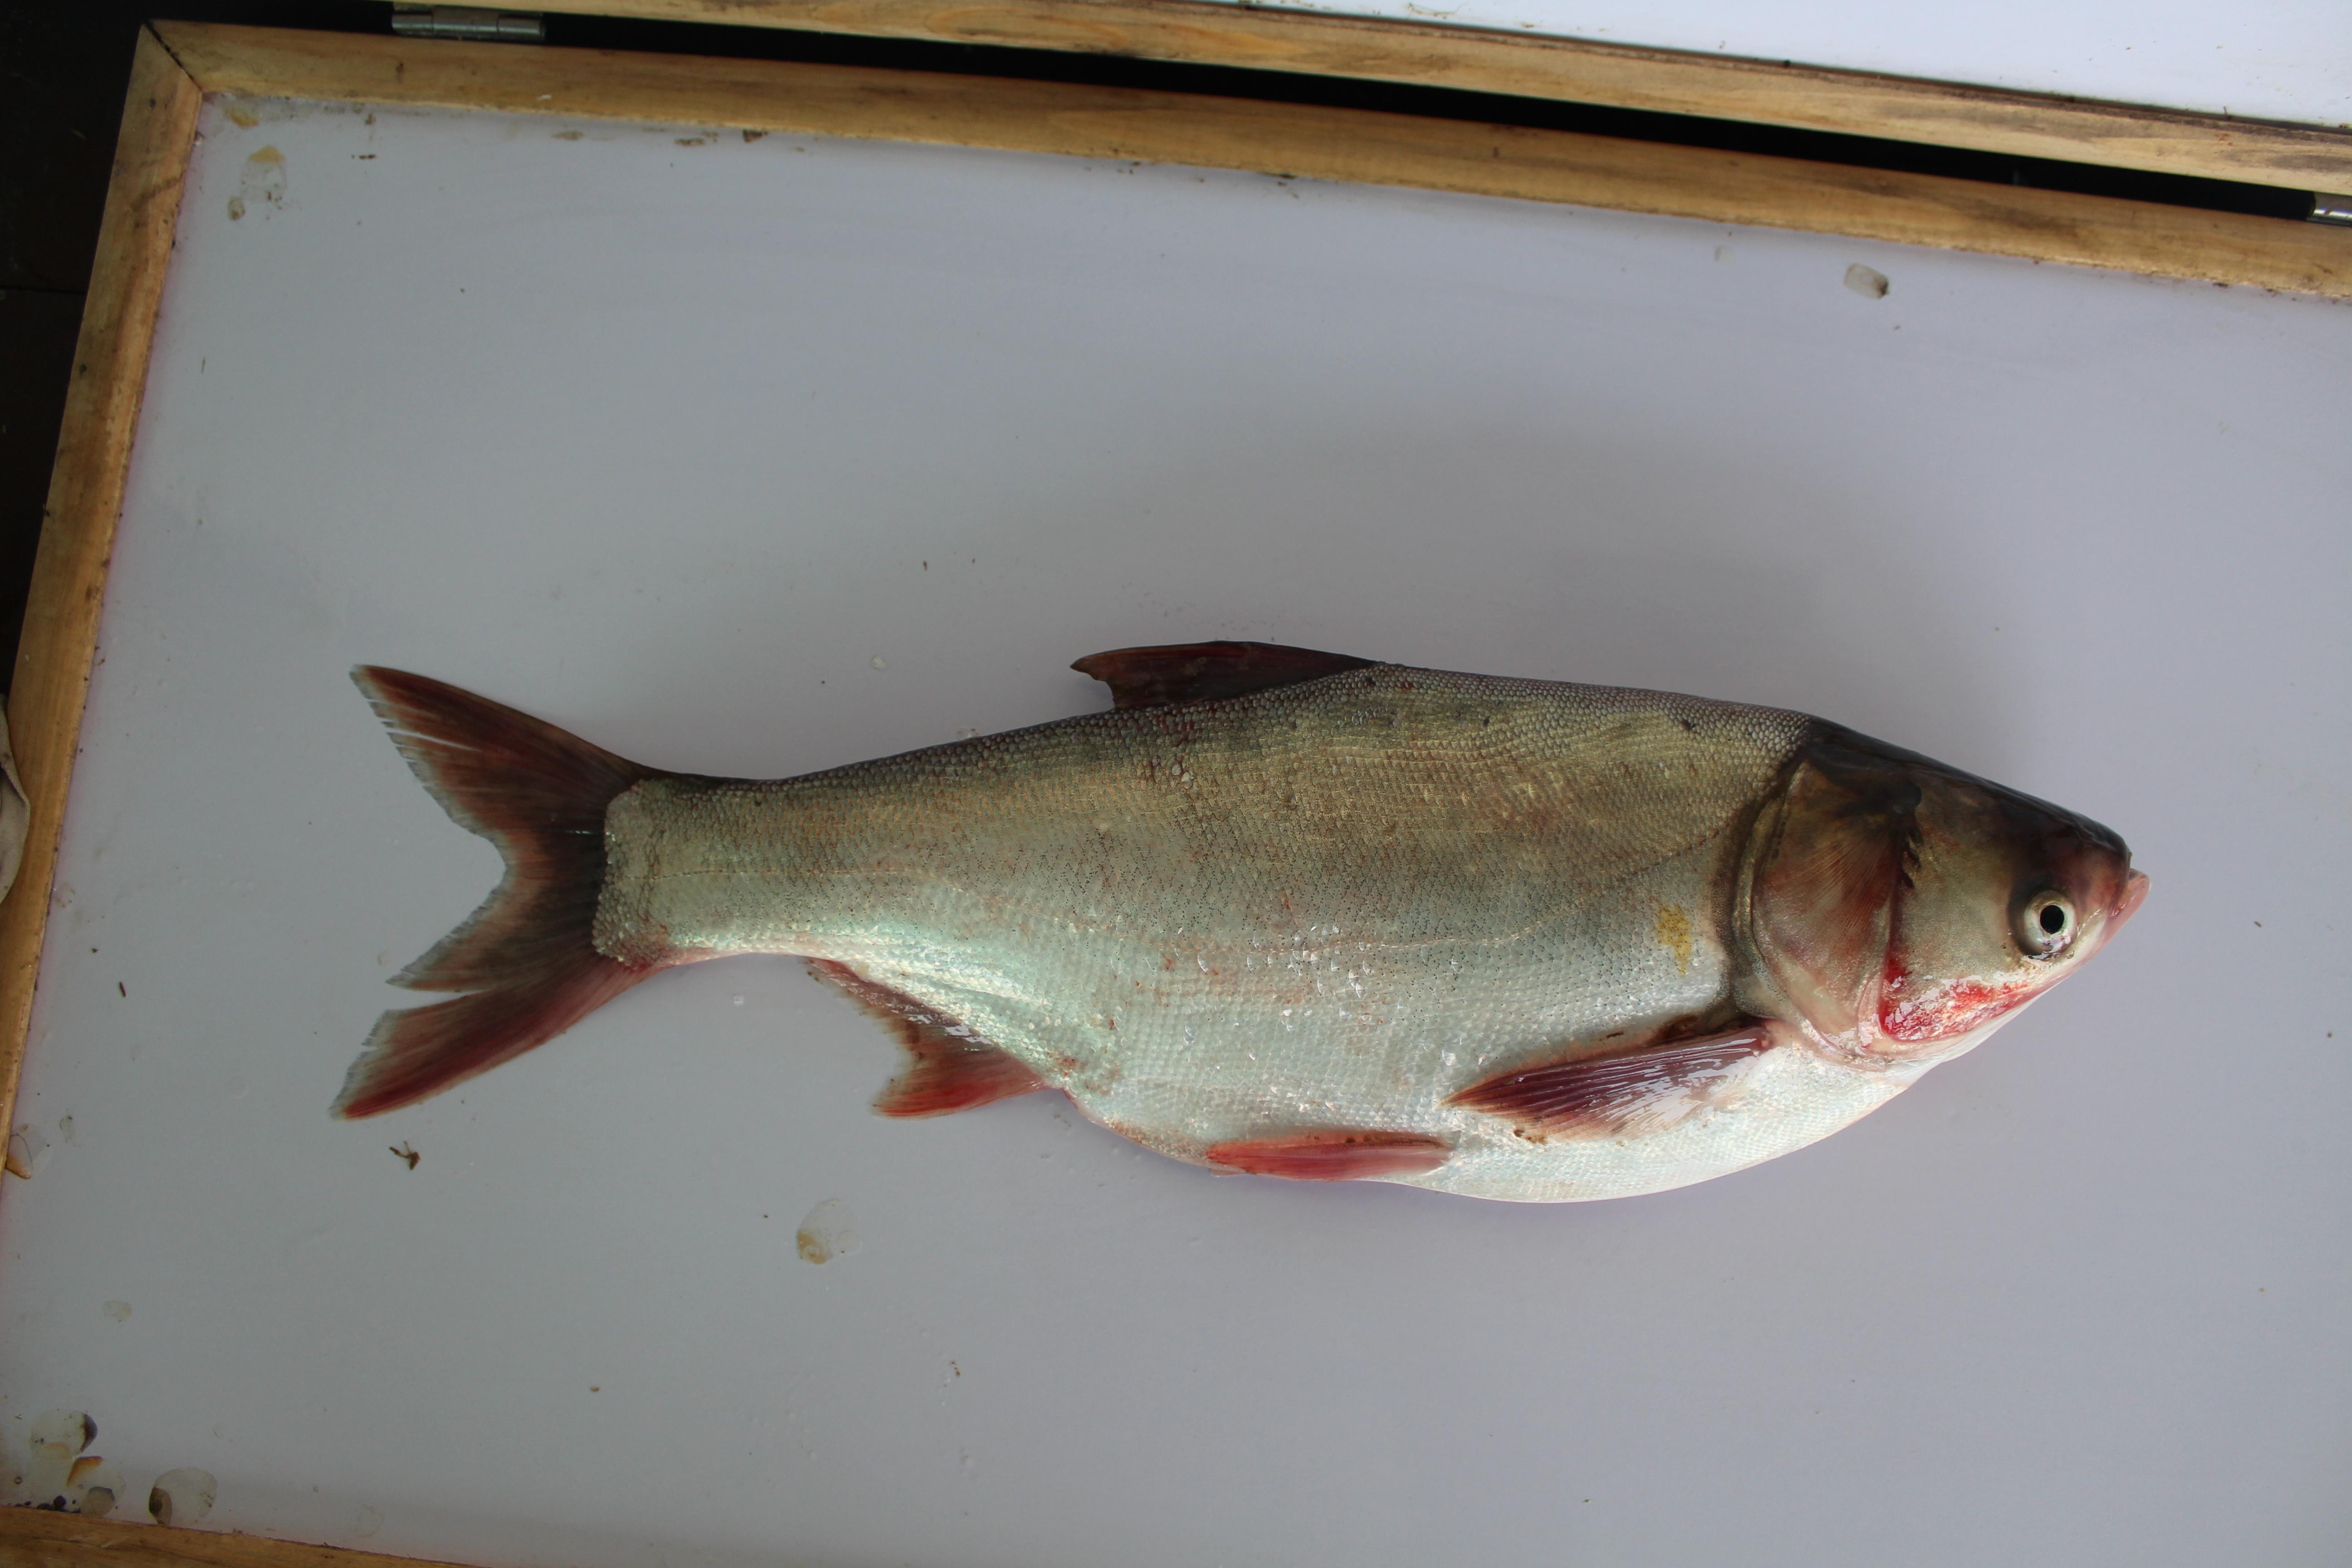Silver Carp: (352, 621, 2137, 1216)
